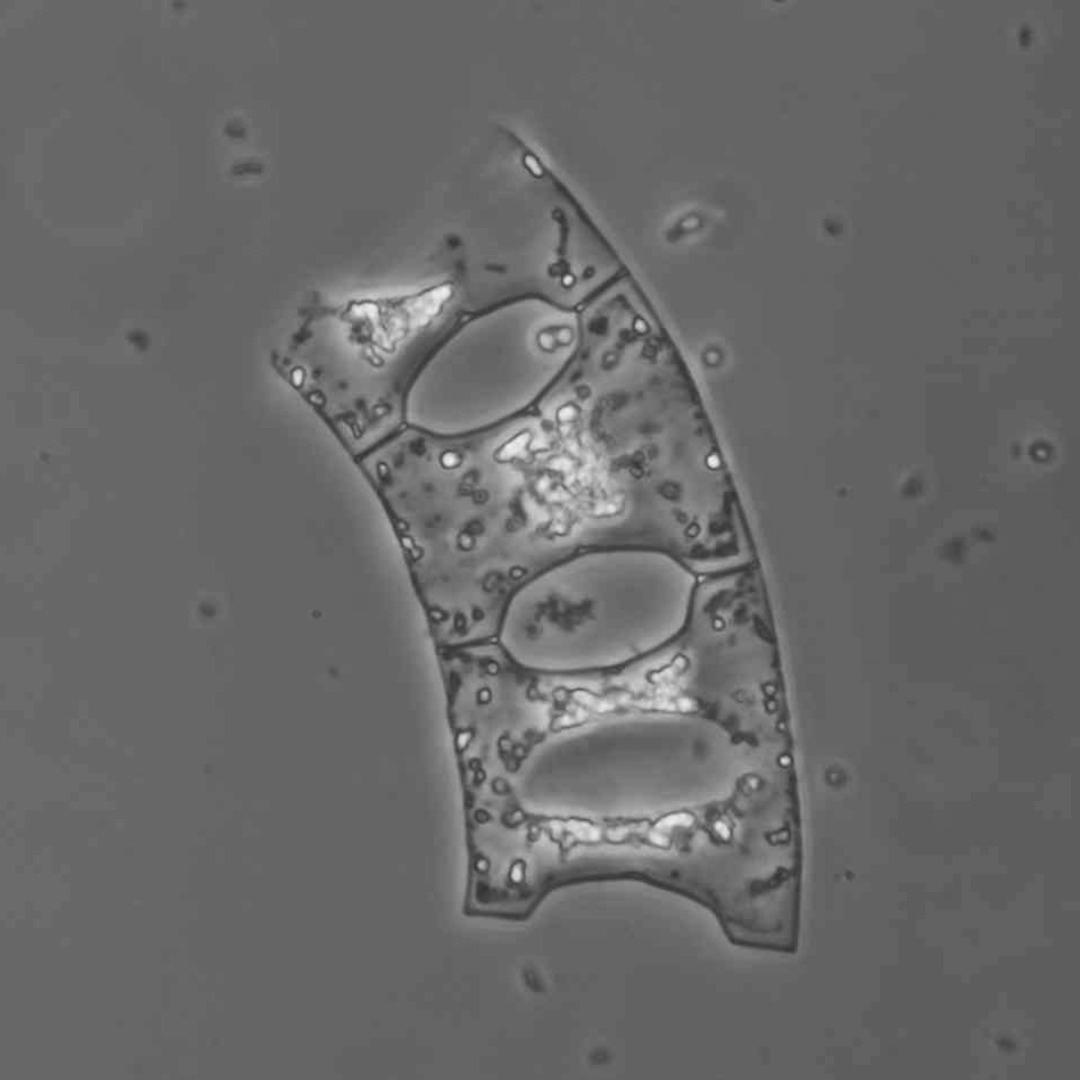eucampia_zodiacus: (272, 125, 803, 948)
